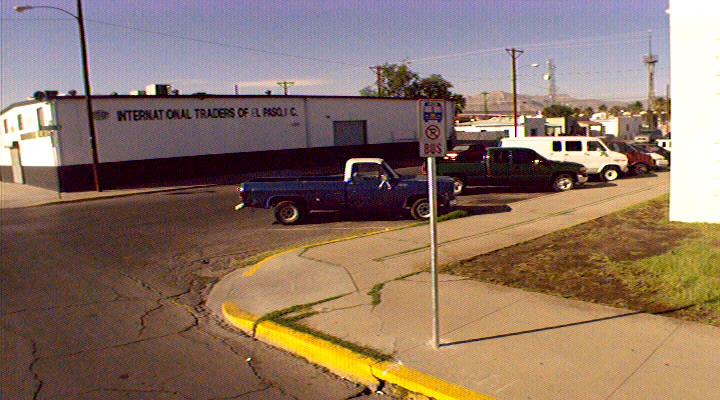Ramp: (201, 246, 357, 342), (1, 193, 53, 212)
